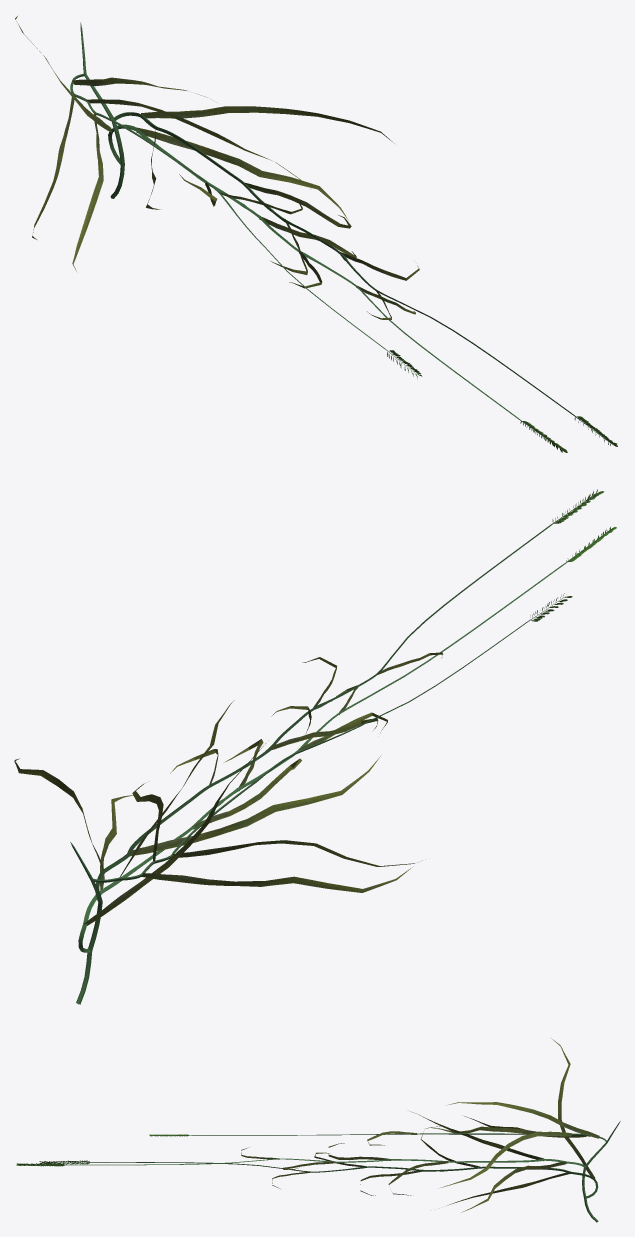
3 renders of one model, top to bottom at view 1: azimuth 30°, elevation 25°; view 2: azimuth 150°, elevation 25°; view 3: azimuth 270°, elevation 25°, orthographic. The views are drawn at different scales.
Parts seen in each view (by area): view 1: GC08_2; view 2: GC08_2; view 3: GC08_2.
Boxes of the visible parts, x1,y1,x2,y2 form: GC08_2: [15, 16, 617, 452]; GC08_2: [14, 489, 616, 1004]; GC08_2: [16, 1038, 620, 1222].
Bounding box in the file's own units: 0.2382 × 0.1573 × 0.5797.
Materials: 3 (3 with a texture image).
